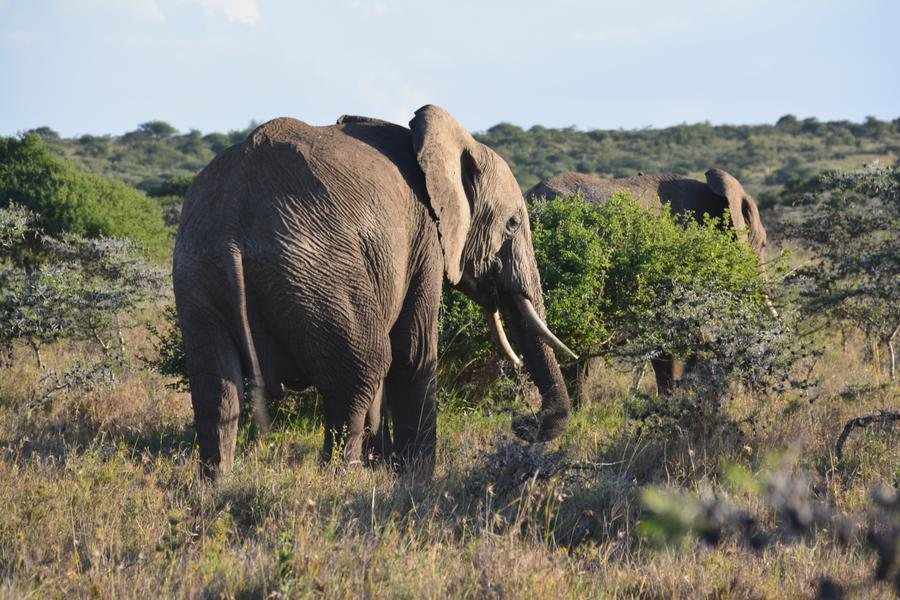elephant: (176, 104, 572, 435)
